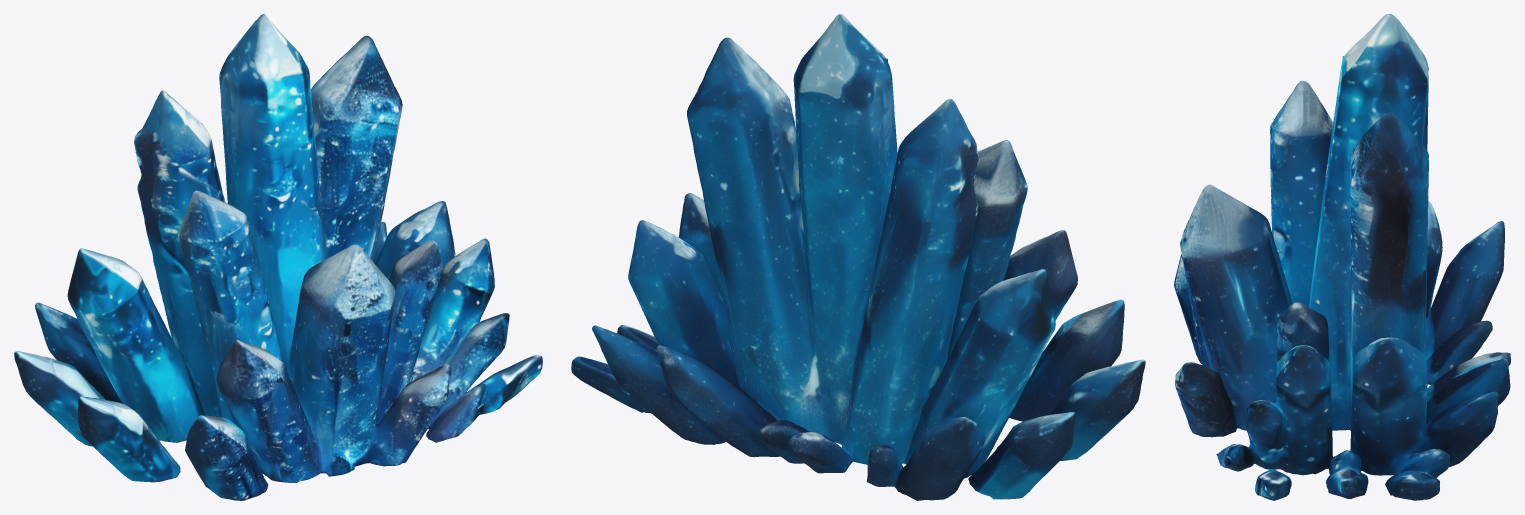
Rendered from magiccrystal..ix.glb.
The picture shows the model from 3 angles, left to right: view 1: azimuth 30°, elevation 25°; view 2: azimuth 150°, elevation 25°; view 3: azimuth 270°, elevation 25°; orthographic projection. The views are drawn at different scales.
Visible parts, largest first — view 1: model_0; view 2: model_0; view 3: model_0.
Boxes of the visible parts, x1,y1,x2,y2 form: model_0: [14, 14, 542, 500]; model_0: [571, 14, 1145, 500]; model_0: [1174, 14, 1510, 500].
Size of the model in its own units: 1.78 by 1.46 by 1.12.
1 material, 1 textured.
